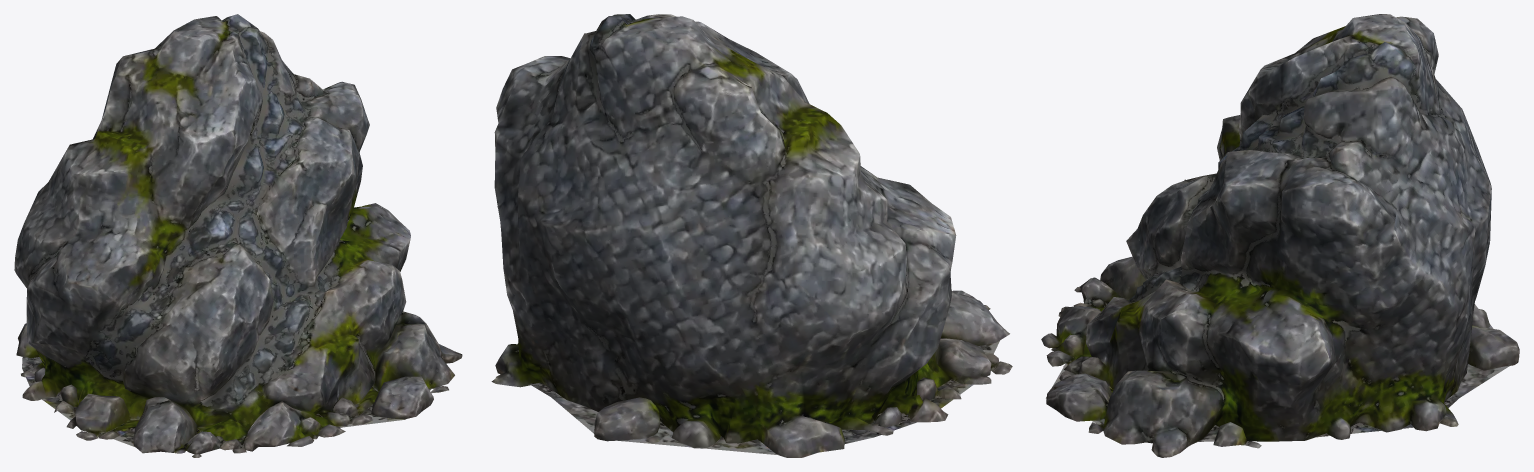
The model's file is schwarzeisen-leer.glb.
3 views of the same model, side by side, from view 1: azimuth 30°, elevation 25°; view 2: azimuth 150°, elevation 25°; view 3: azimuth 270°, elevation 25° (orthographic). The views are drawn at different scales.
Visible parts, largest first — view 1: baum; view 2: baum; view 3: baum.
Boxes of the visible parts, left/top/right/bottom form: baum: left=14, top=14, right=462, bottom=457; baum: left=491, top=14, right=1012, bottom=457; baum: left=1041, top=14, right=1519, bottom=457.
Bounding box in the file's own units: 1.69 × 1.3 × 1.64.
Materials: 1 (1 with a texture image).
